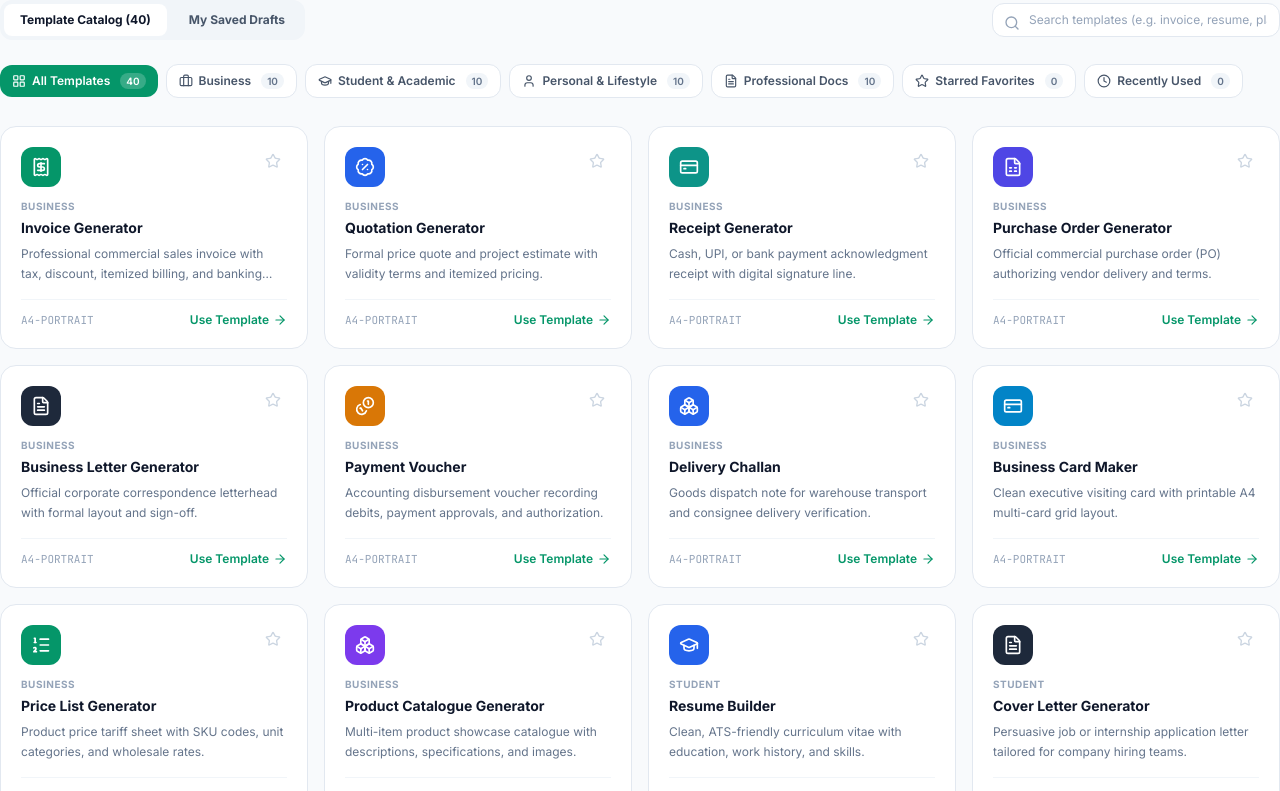
Test: Templates & Document Creator Test Suite › 5. Template Library Catalog & Filtering UI › renders all 40 cards initially and filters by search input
Note: Search by keyword
In the field with placeholder "Search templates (e.g. invoice, resume, planner)...": (1136, 20) [992,3,1279,37], type "resume"
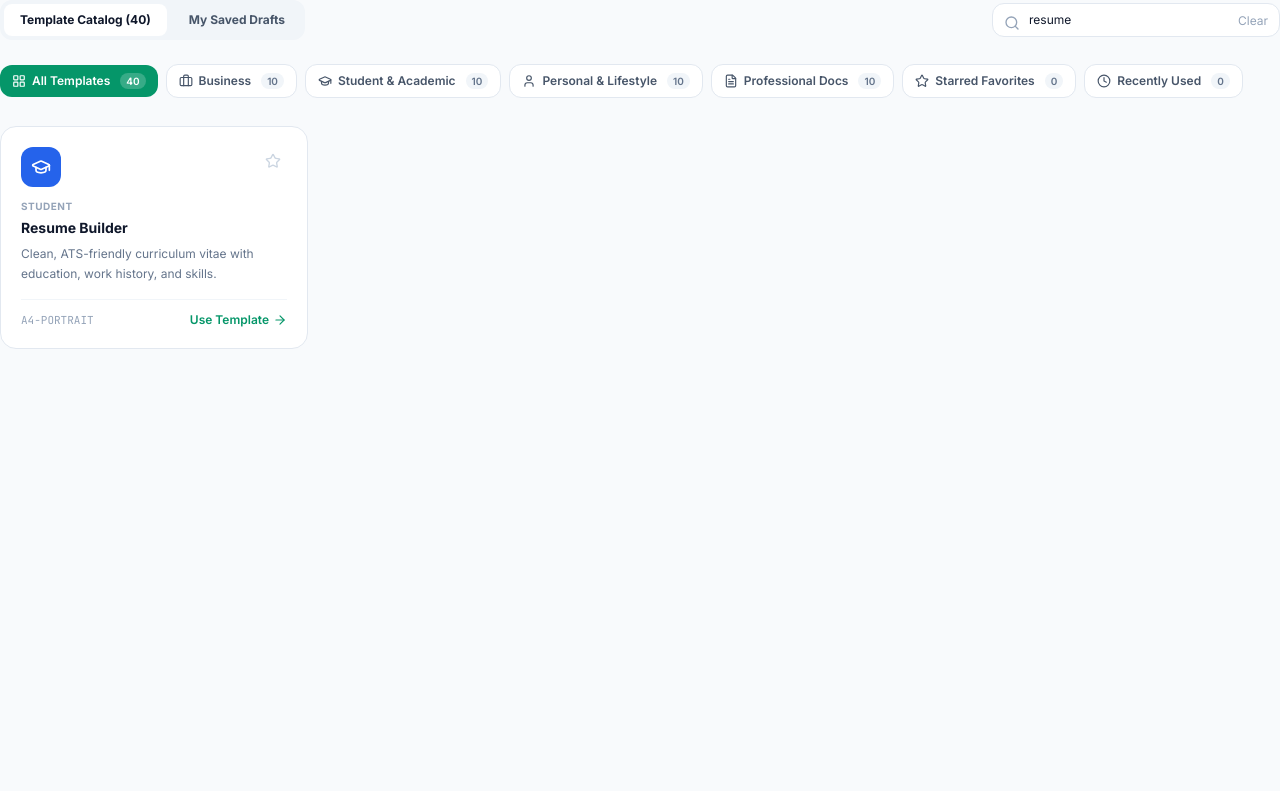
Expected: the heading "Resume Builder" is shown, [21,219,128,236]
Result: the heading "Purchase Order Generator" is gone
